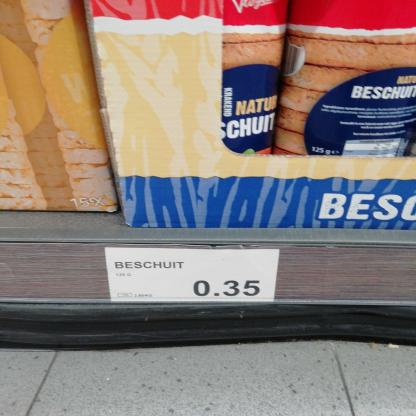prtg: (105, 248, 281, 303)
